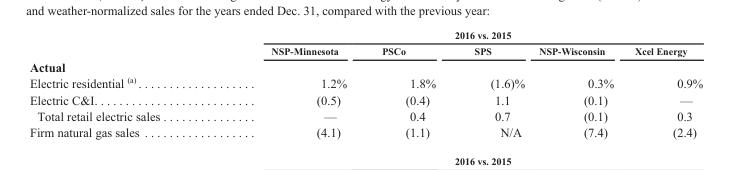table: (28, 28, 702, 139)
table column: (28, 28, 214, 139), (214, 28, 363, 139), (531, 28, 623, 139), (363, 28, 454, 139), (623, 28, 702, 139), (454, 28, 531, 139)
table column header: (28, 28, 702, 57)
table projected row header: (28, 57, 702, 74)
table row: (28, 57, 702, 74), (28, 74, 702, 91), (28, 91, 702, 107), (28, 107, 702, 123), (28, 123, 702, 139), (28, 42, 702, 57), (28, 28, 702, 42)
table spanning cell: (214, 28, 702, 42)
